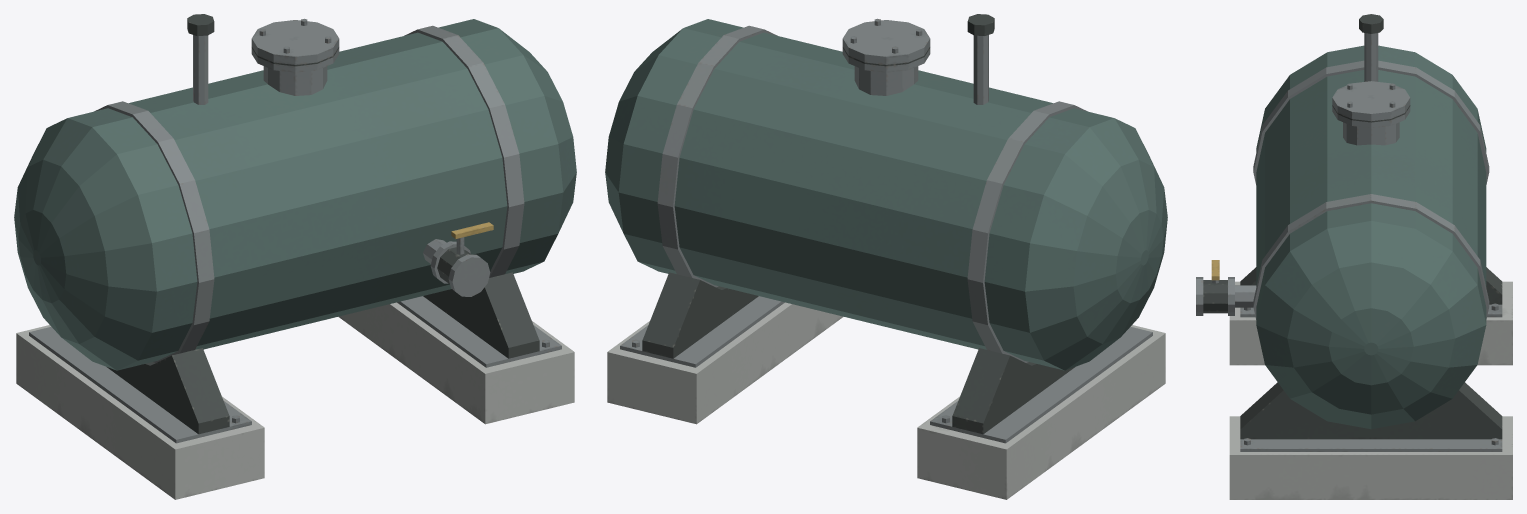
File: fuel_tank_short.glb
3 renders of one model, left to right at view 1: azimuth 30°, elevation 25°; view 2: azimuth 150°, elevation 25°; view 3: azimuth 270°, elevation 25°, orthographic. The views are drawn at different scales.
Visible parts, largest first — view 1: FuelTankShort; view 2: FuelTankShort; view 3: FuelTankShort.
Boxes of the visible parts, x1,y1,x2,y2 form: FuelTankShort: (14, 14, 576, 499); FuelTankShort: (605, 14, 1167, 499); FuelTankShort: (1196, 14, 1512, 499).
Size of what is drawn, in the model's own units: 3 by 2.2 by 1.79.
1 material, 1 textured.
